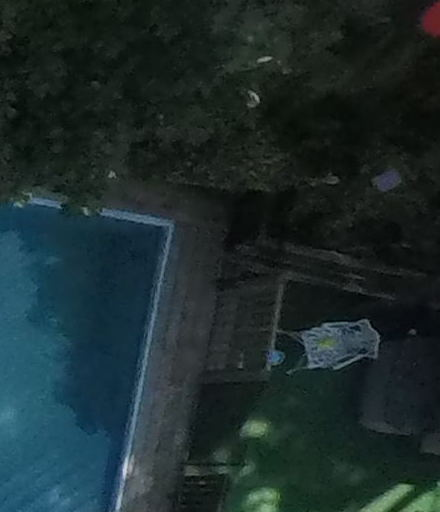chair: (283, 298, 387, 383)
